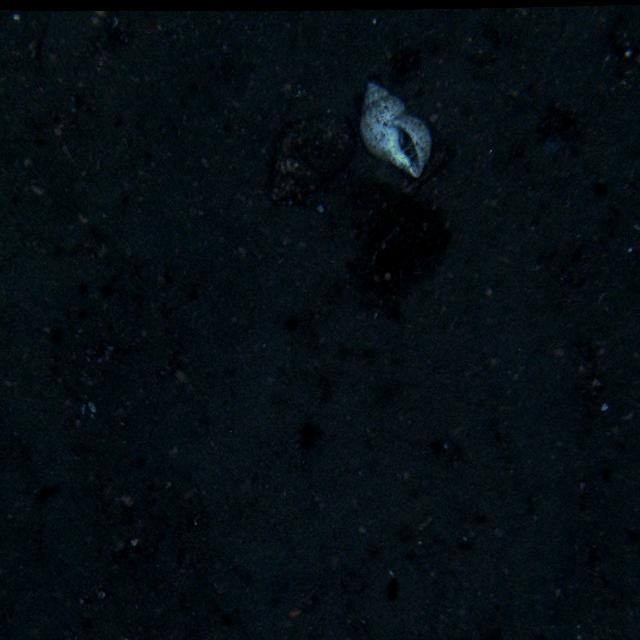whelk: (352, 82, 433, 180)
